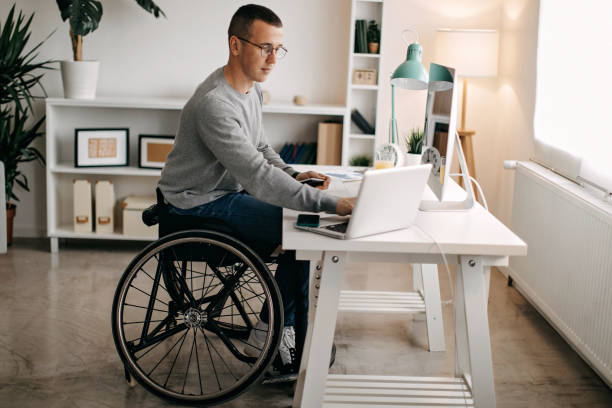without mask: (219, 8, 290, 86)
